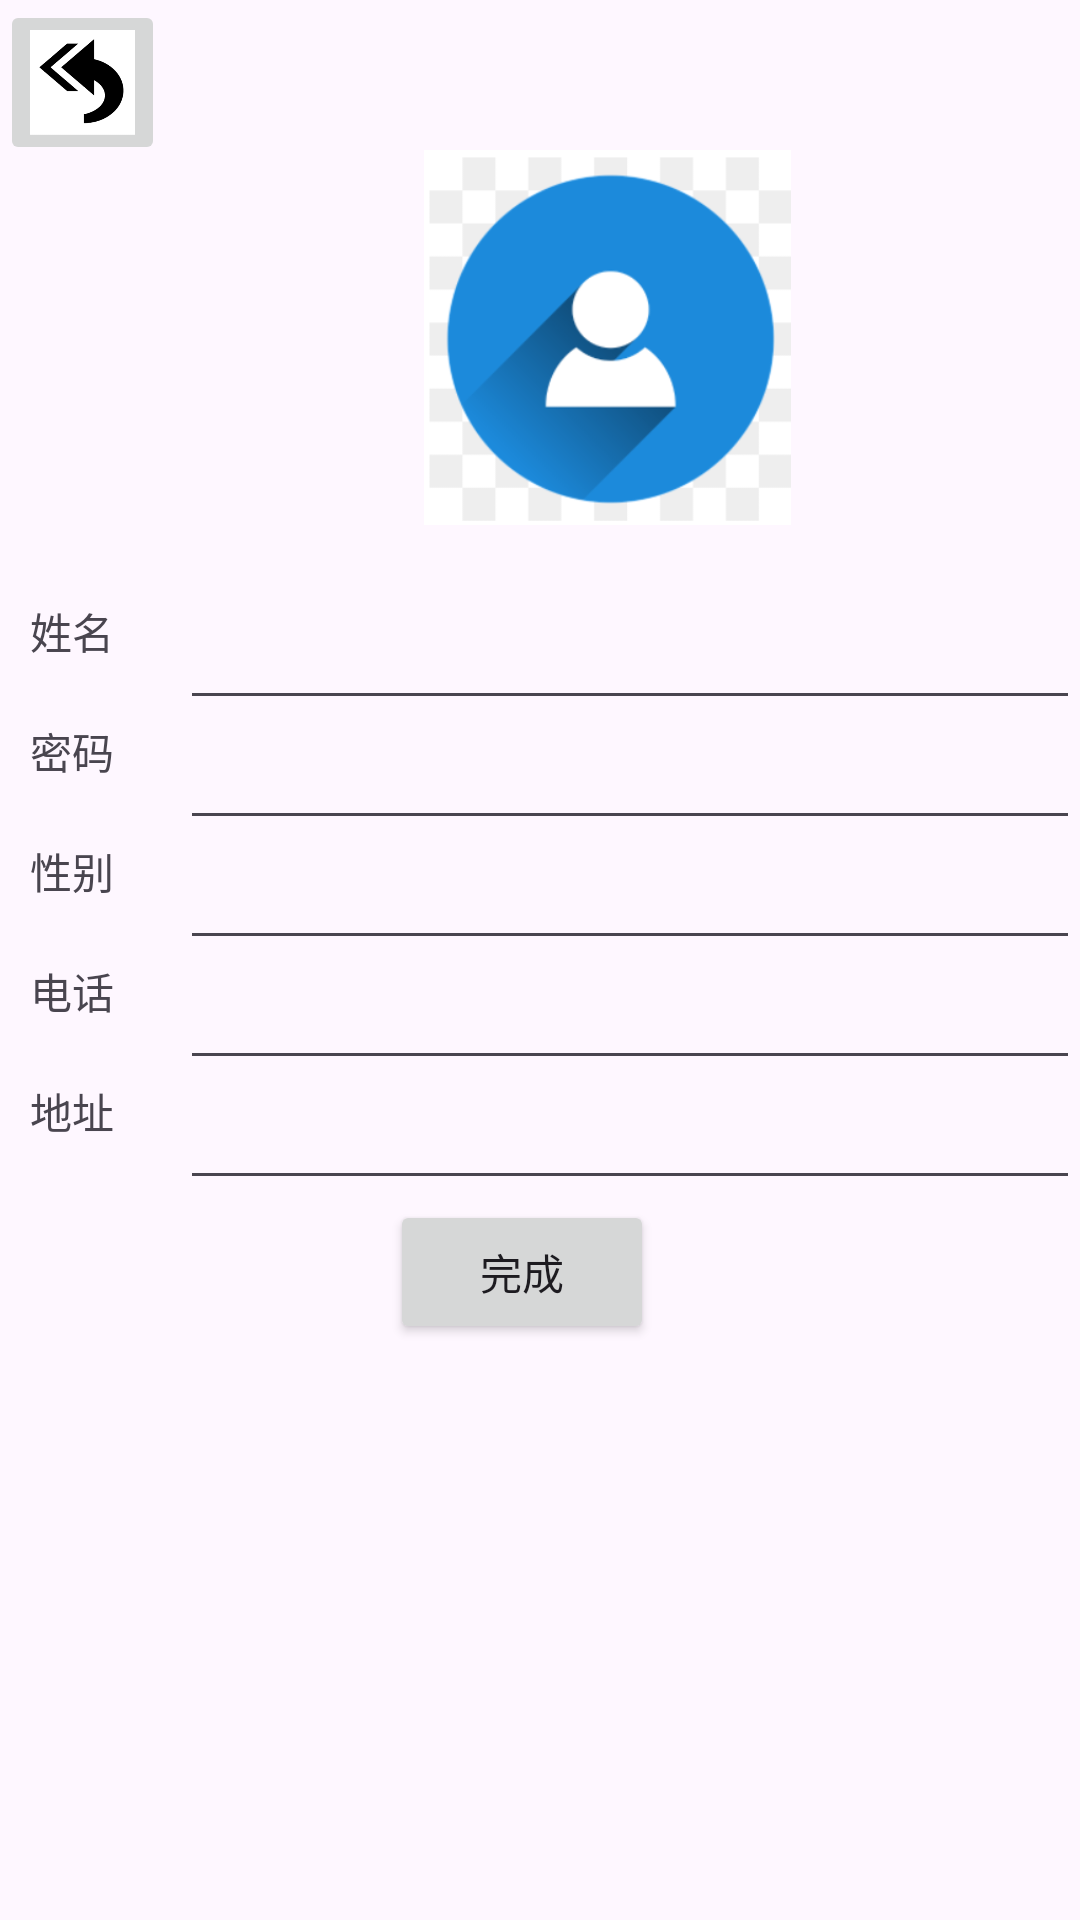

Point at icon controls on the screen. Image size 1080w x 1920h, points as point (x, y).
back: point (82, 82)
user: point (610, 339)
